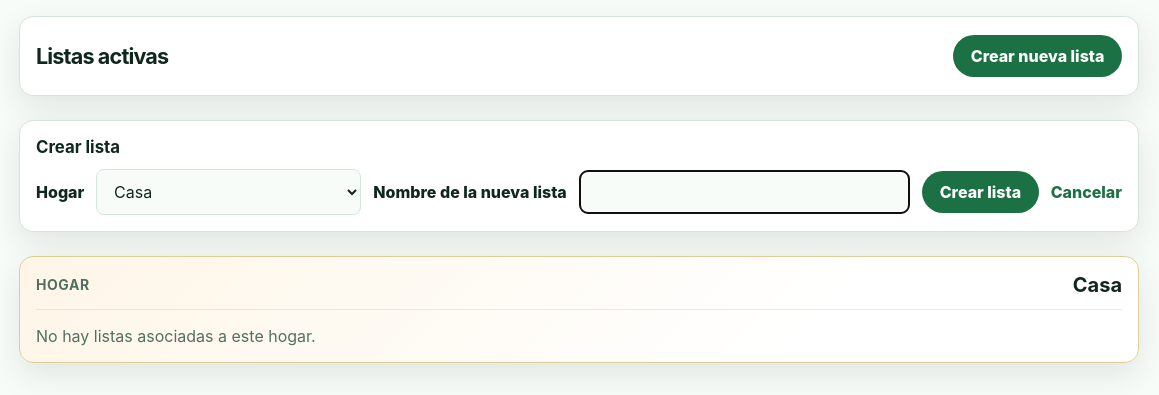
Test: ListsPage › creates a list for the selected household and opens it
Type "Mercadona" into the field labelled "Nombre de la nueva lista".
click(744, 192); type("Mercadona")  # box [579,170,910,214]
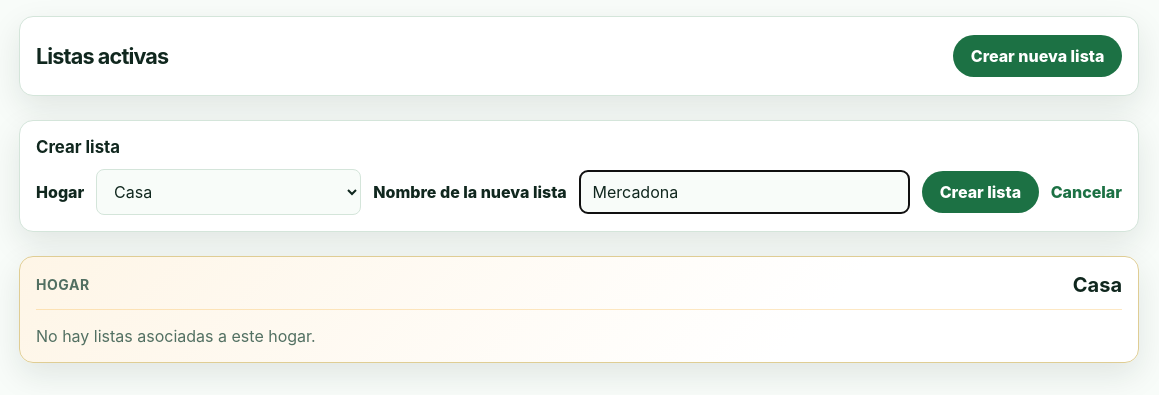
Click the button "Crear lista".
click(980, 192)  # box [922,171,1039,213]
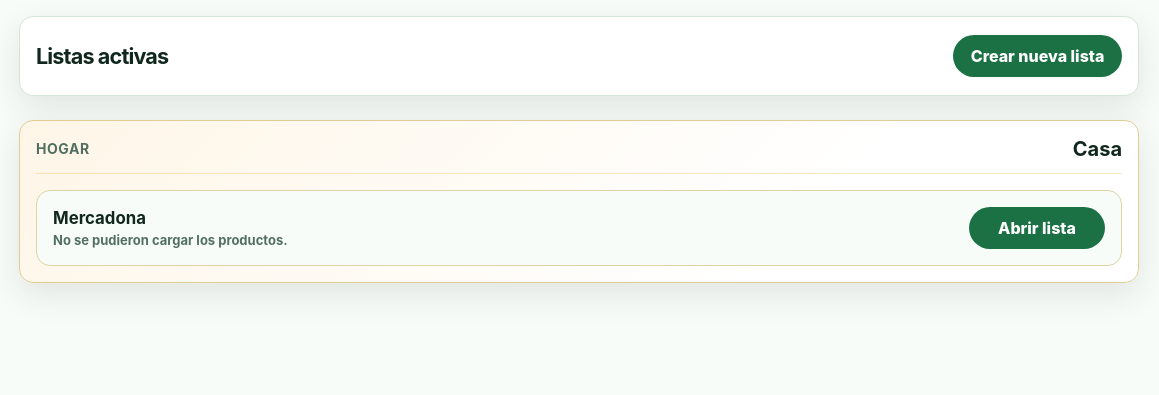
Now the text "Mercadona" is shown, box [53,208,146,228]
